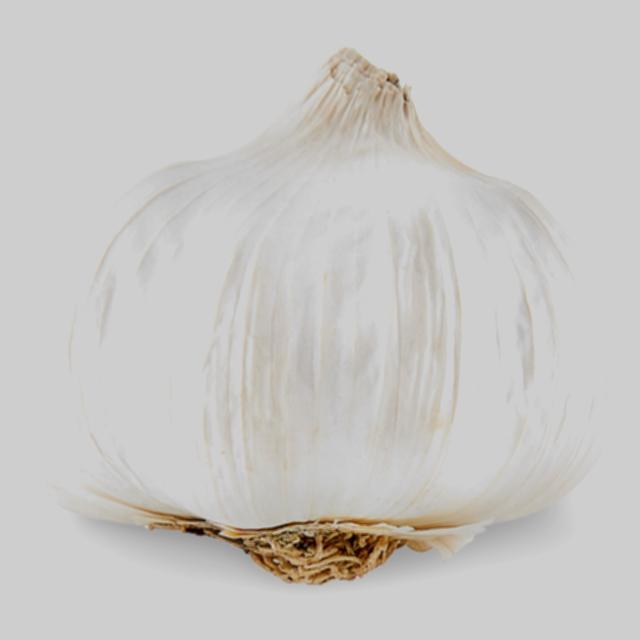garlic: (4, 50, 627, 584)
